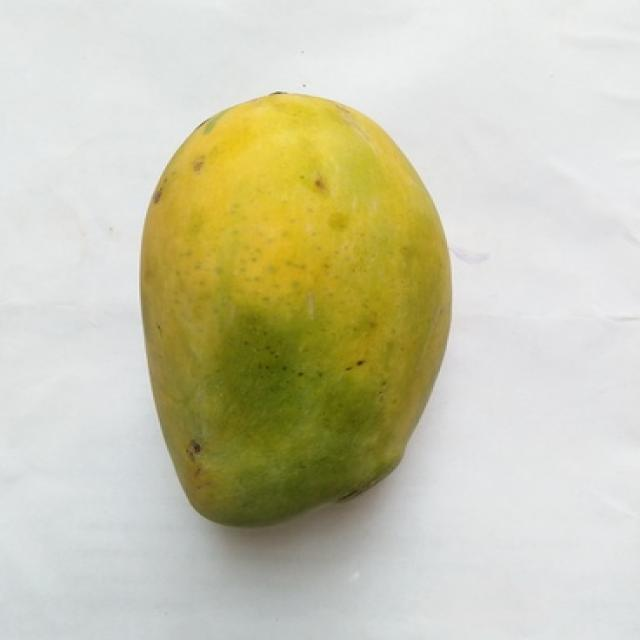Mango: (141, 93, 450, 523)
